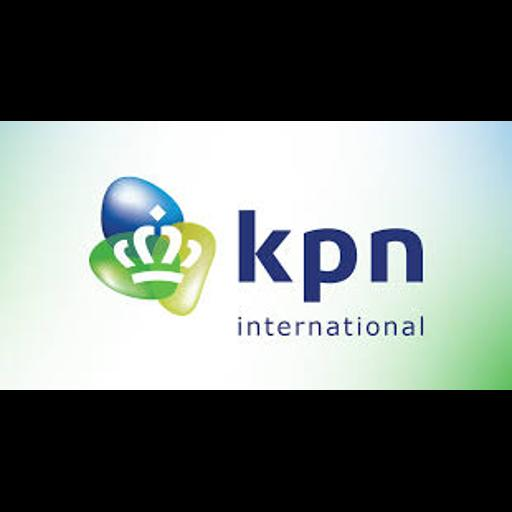Royal KPN N-V: (0, 121, 512, 390)
